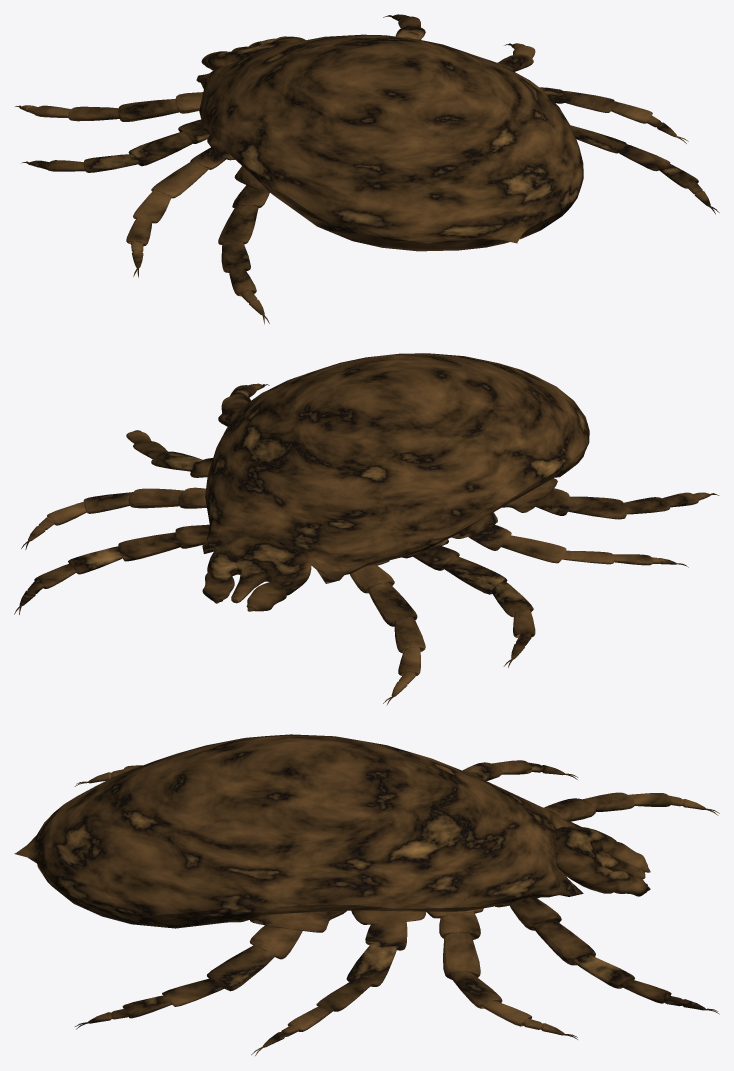
File: microplus_material.glb
3 views of the same model, one above another, from view 1: azimuth 30°, elevation 25°; view 2: azimuth 150°, elevation 25°; view 3: azimuth 270°, elevation 25° (orthographic). The views are drawn at different scales.
Visible parts, largest first — view 1: leg 4; view 2: leg 4; view 3: leg 4.
Part boxes in pixels (<box>): leg 4: <box>15,14,719,324</box>; leg 4: <box>14,353,719,705</box>; leg 4: <box>14,734,719,1055</box>.
Size of the model in its own units: 3.18 by 0.7527 by 3.17.
1 material, 1 textured.
